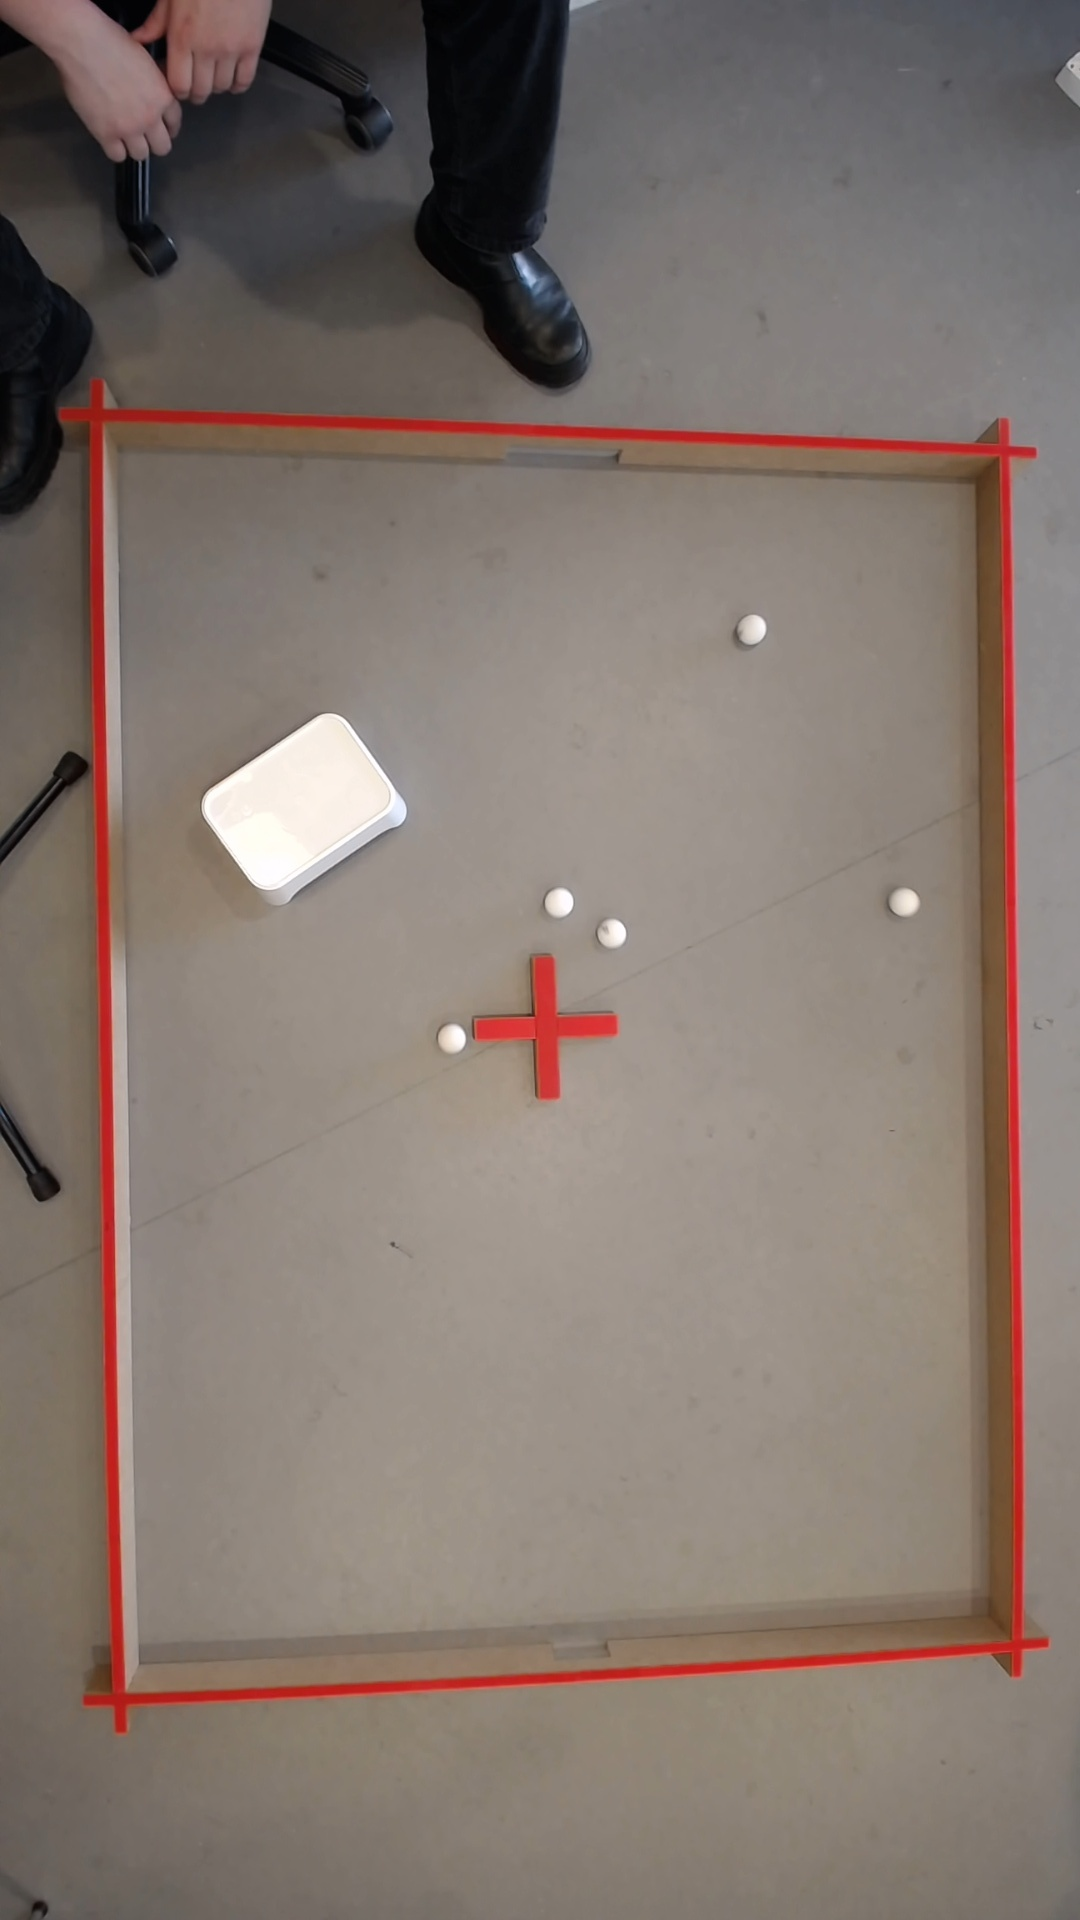balls: (193, 702, 413, 911), (541, 884, 578, 920), (435, 1021, 469, 1055), (738, 612, 770, 645), (600, 916, 629, 948)
car: (891, 885, 922, 916)
